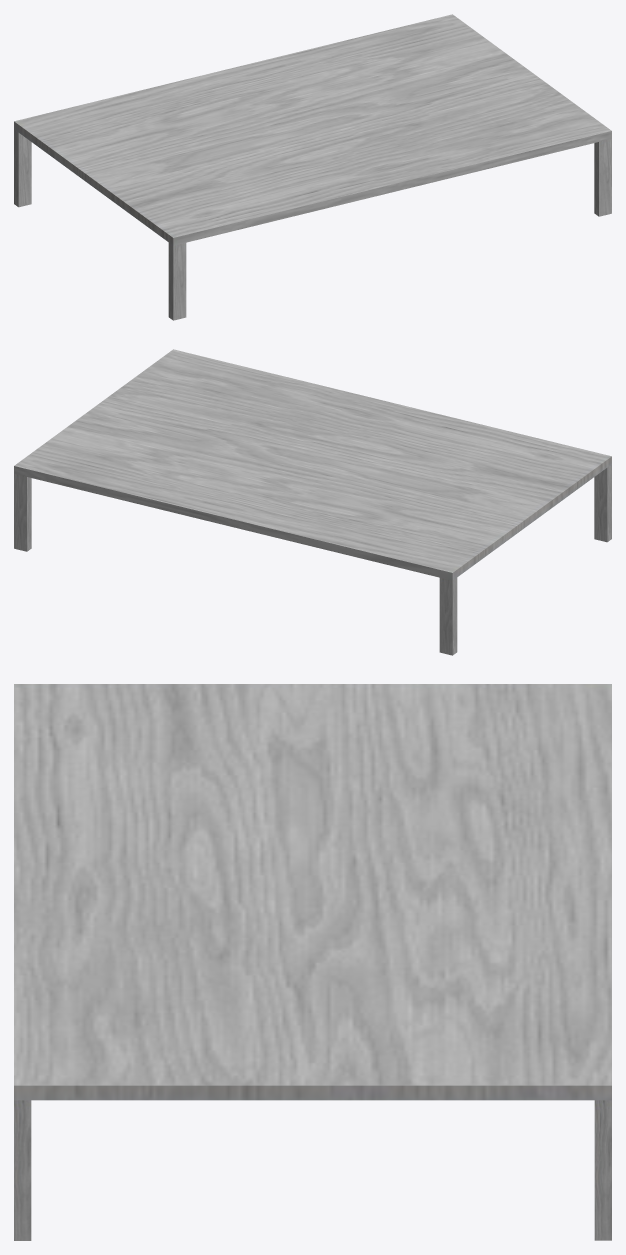
Rendered from M_Mejal.fbx.
The picture shows the model from 3 angles, top to bottom: view 1: azimuth 30°, elevation 25°; view 2: azimuth 150°, elevation 25°; view 3: azimuth 270°, elevation 25°; orthographic projection. The views are drawn at different scales.
Parts seen in each view (by area): view 1: Meja; view 2: Meja; view 3: Meja.
Boxes of the visible parts, x1=… form: Meja: x1=14, y1=14, x2=611, y2=320; Meja: x1=14, y1=349, x2=611, y2=655; Meja: x1=14, y1=684, x2=611, y2=1240.
Bounding box in the file's own units: 176 × 31.79 × 111.
